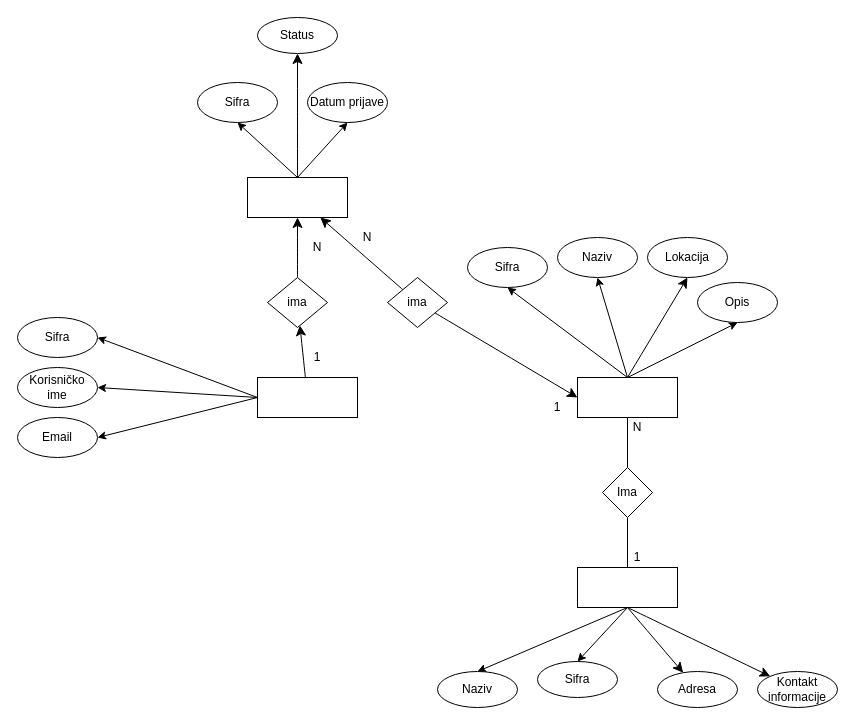
Some shapes in this 855 by 725 pixel diagram are drawn without their labels. Each missing label, with the box of its shape:
Korisnik: (256, 376, 358, 418)
Poslodavac: (576, 566, 678, 608)
Prijava: (246, 176, 348, 218)
Radno mjesto: (576, 376, 678, 418)
